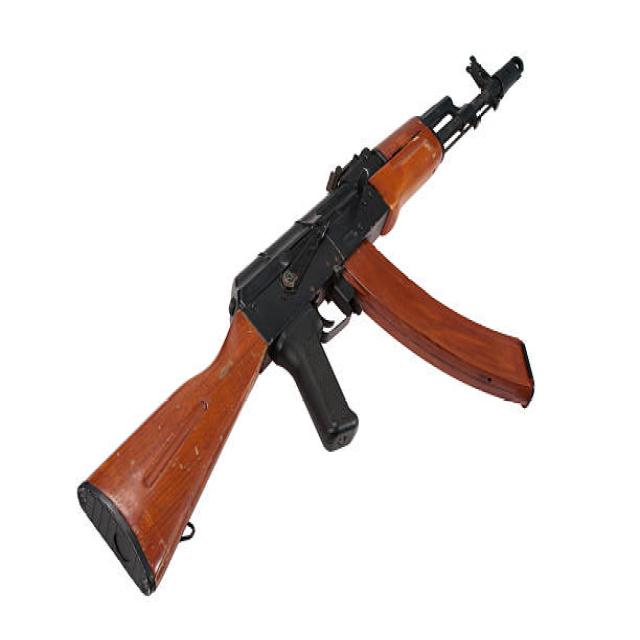rifle: (75, 38, 539, 612)
